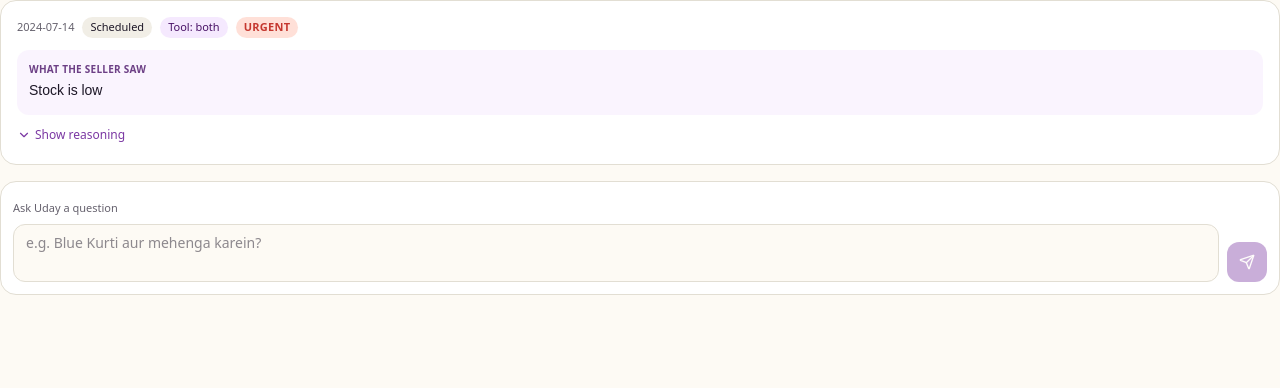
Test: AgentReasoningLog › test_reasoning_trace_toggle
Click the button "Show reasoning".
click(71, 135)  # box [17,127,125,143]
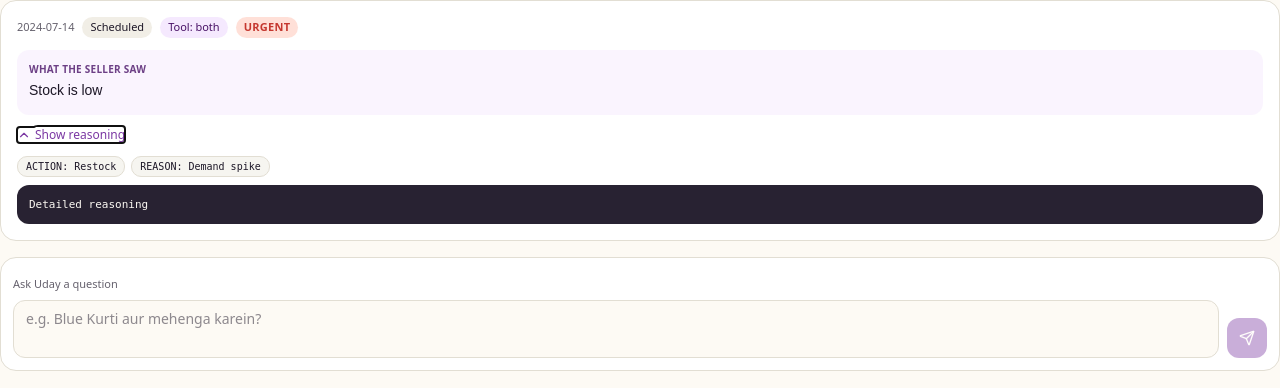
Result: the text "Detailed reasoning" is shown at [17,185,1263,224]
